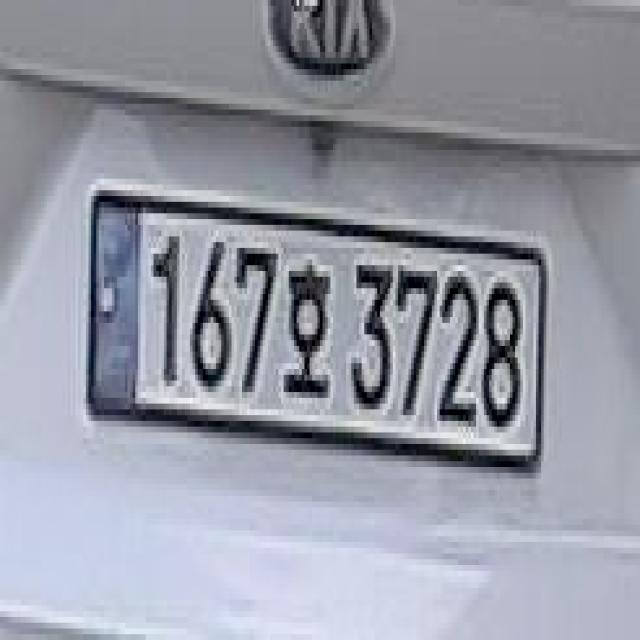illegal_plate: (84, 177, 548, 501)
